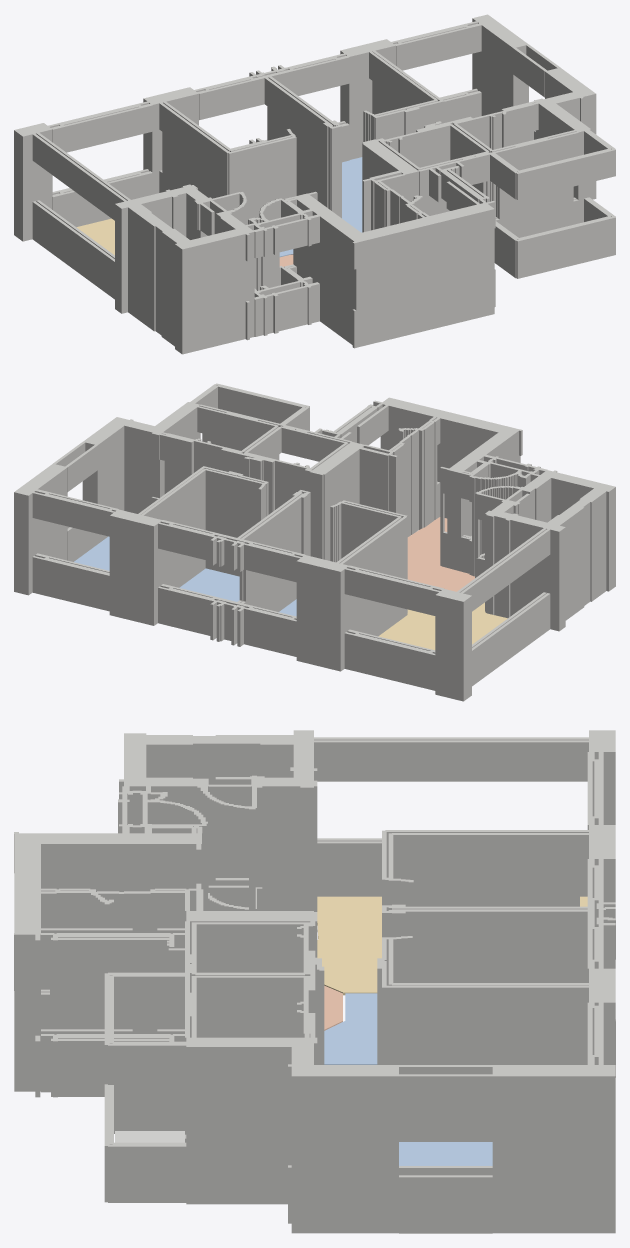
3 views of the same model, one above another, from view 1: azimuth 30°, elevation 25°; view 2: azimuth 150°, elevation 25°; view 3: azimuth 270°, elevation 25° (orthographic). The views are drawn at different scales.
Visible parts, largest first — view 1: walls, room:bedroom:7, room:living:0; view 2: walls, room:kitchen:5, room:living:0, room:bedroom:7, room:bedroom:6; view 3: walls, room:living:0, room:bedroom:9, room:bedroom:6, room:ledge:3, room:kitchen:5.
Part boxes in pixels (x1=…): walls: x1=14, y1=14, x2=615, y2=354; room:bedroom:7: x1=342, y1=157, x2=362, y2=232; room:living:0: x1=76, y1=218, x2=114, y2=255; walls: x1=14, y1=383, x2=615, y2=701; room:kitchen:5: x1=407, y1=517, x2=474, y2=591; room:living:0: x1=378, y1=602, x2=507, y2=649; room:bedroom:7: x1=179, y1=568, x2=239, y2=601; room:bedroom:6: x1=74, y1=536, x2=109, y2=570; walls: x1=14, y1=730, x2=615, y2=1233; room:living:0: x1=317, y1=896, x2=587, y2=995; room:bedroom:9: x1=324, y1=993, x2=377, y2=1064; room:bedroom:6: x1=399, y1=1142, x2=492, y2=1165; room:ledge:3: x1=115, y1=1131, x2=184, y2=1142; room:kitchen:5: x1=324, y1=985, x2=342, y2=1030.
Bounding box in the file's own units: 13.22 × 2.8 × 9.72.
